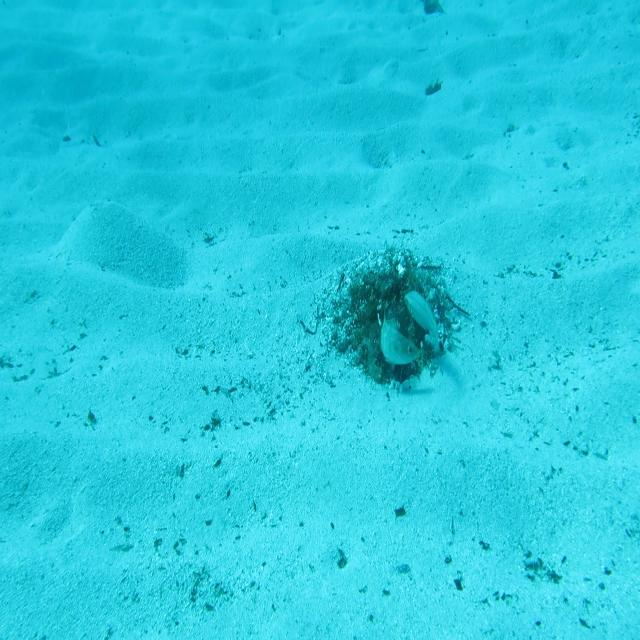DAN_CIRC: (380, 308, 420, 368)
female: (403, 289, 441, 358)
nest: (330, 246, 464, 400)
